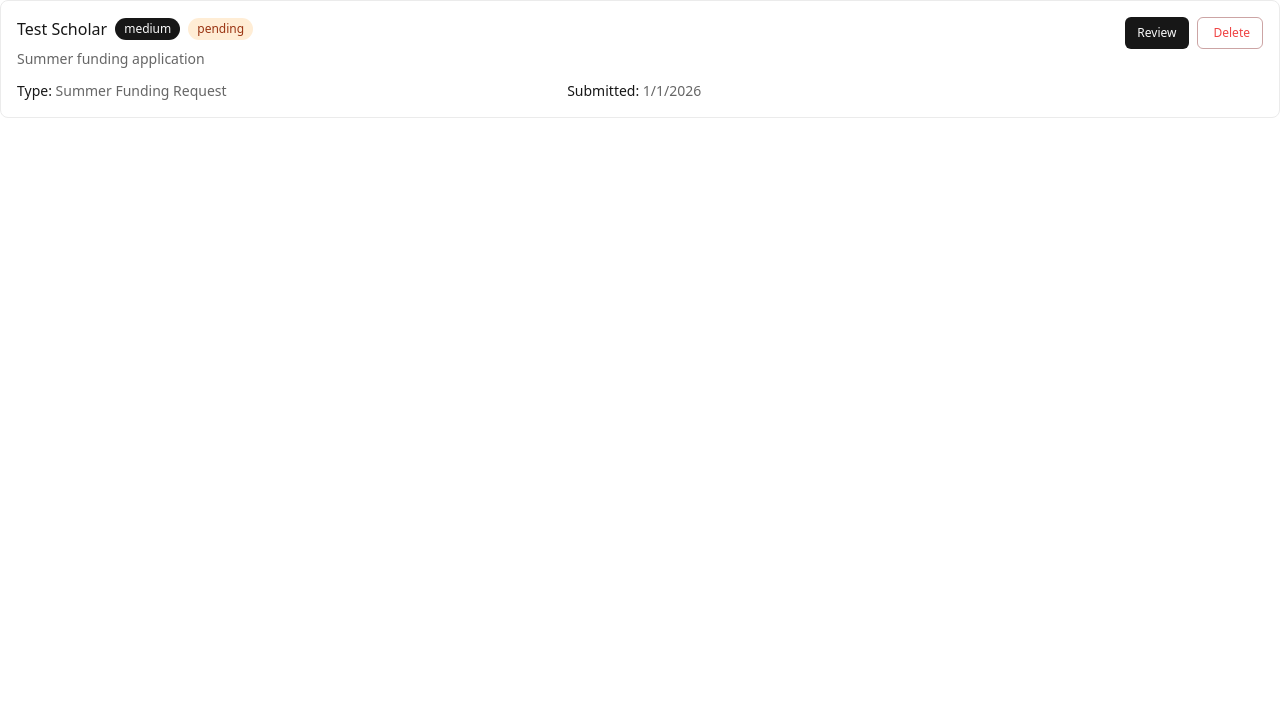
RequestManagement — Request More Information (commented) action › exposes a "Request More Information" button in the review dialog for a pending request
Click the button "Review": (1157, 33) [1125,17,1188,49]
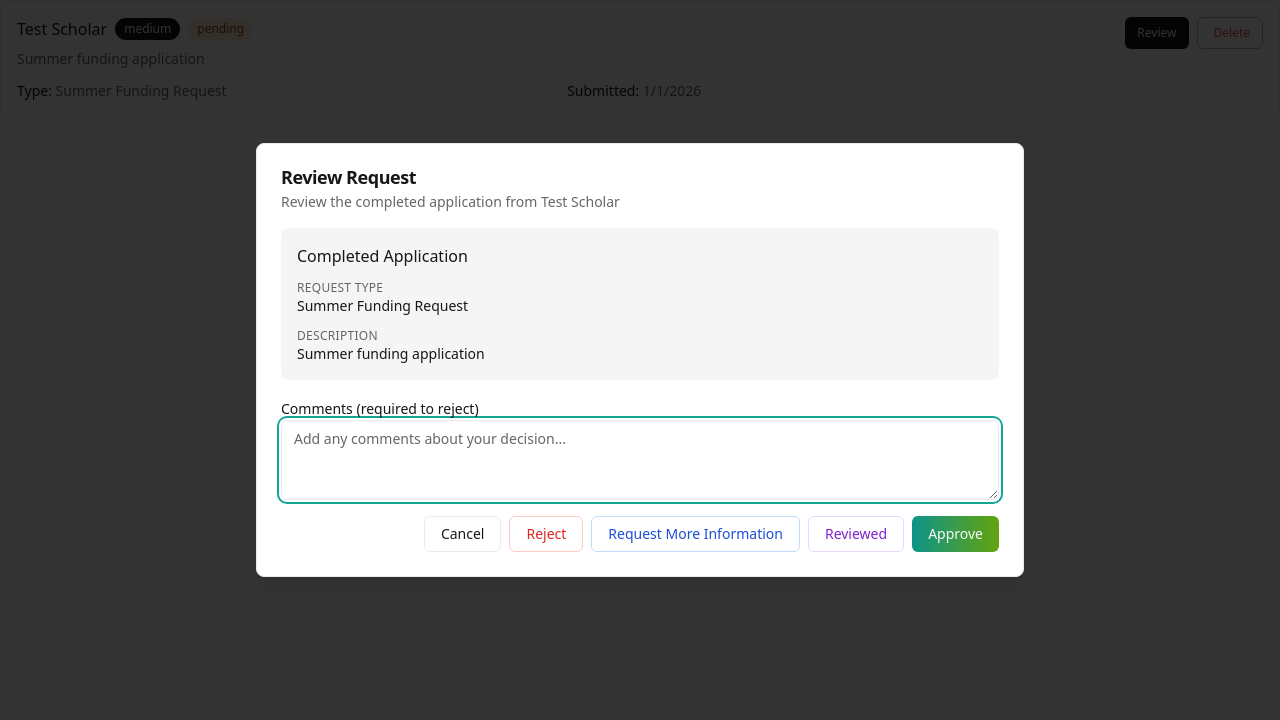
Now the button "Request More Information" is shown, box [591,516,800,552]
